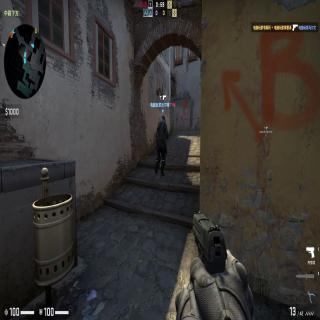CT-Body: (154, 115, 169, 176)
CT-Head: (160, 115, 166, 124)
